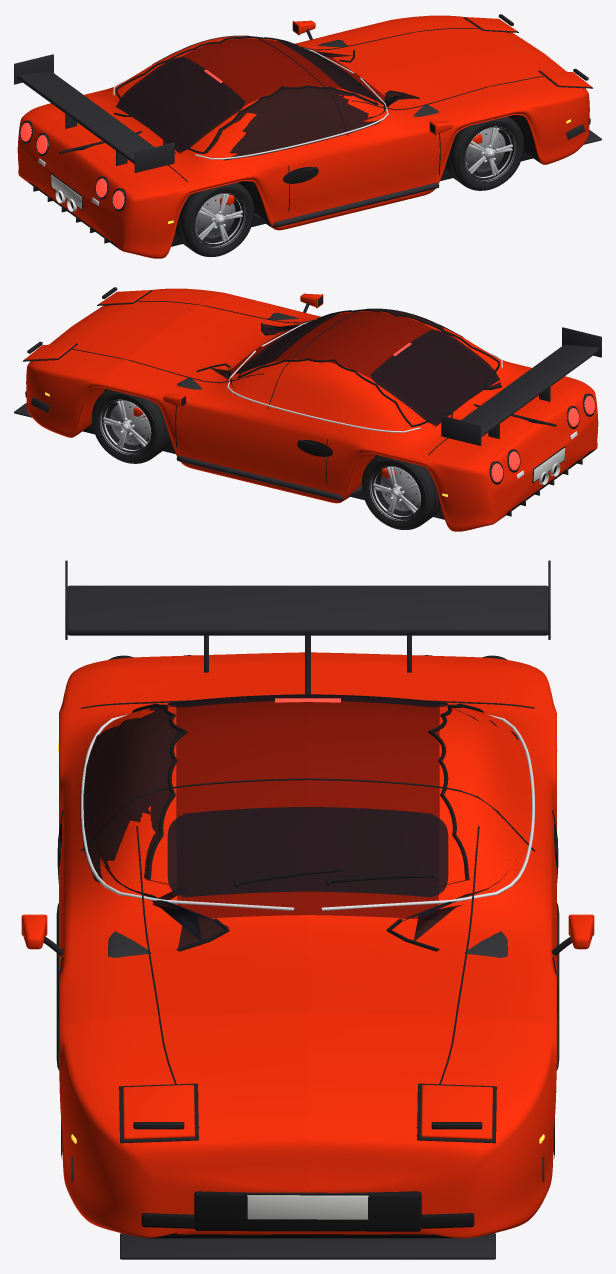
3 renders of one model, top to bottom at view 1: azimuth 30°, elevation 25°; view 2: azimuth 150°, elevation 25°; view 3: azimuth 270°, elevation 25°, orthographic. The views are drawn at different scales.
Parts seen in each view (by area): view 1: body, glass_screen_1, glass_side_R, wing, wheel_RR_tyre, wheel_FR_tyre, side_skirt, glass_screen_0, wing_endplate, wheel_RR_disc, wheel_FR_disc, wing_endplate.001 (+11 smaller); view 2: body, glass_screen_1, wing, wheel_RL_tyre, wheel_FL_tyre, side_skirt.001, glass_screen_0, wing_endplate.001, wheel_RL_disc, wheel_FL_disc, wing_endplate, glass_side_R (+11 smaller); view 3: body, wing, glass_screen_0, glass_side_R, splitter, grille_back, popup_lid, popup_lid.001, plate_front, glass_screen_1, belt_trim.001, dashboard (+6 smaller).
Boxes of the visible parts, x1,y1,x2,y2 form: body: (17, 15, 589, 258); glass_screen_1: (116, 56, 245, 152); glass_side_R: (164, 86, 417, 160); wing: (17, 71, 154, 163); wheel_RR_tyre: (175, 182, 254, 256); wheel_FR_tyre: (445, 116, 524, 190); side_skirt: (253, 182, 439, 227); glass_screen_0: (277, 40, 378, 100); wing_endplate: (134, 142, 174, 172); wheel_RR_disc: (196, 194, 235, 238); wheel_FR_disc: (466, 128, 505, 172); wing_endplate.001: (14, 54, 53, 84); body: (26, 288, 598, 531); glass_screen_1: (370, 329, 499, 425); wing: (461, 344, 598, 436); wheel_RL_tyre: (361, 455, 440, 529); wheel_FL_tyre: (91, 389, 170, 463); side_skirt.001: (176, 455, 362, 500); glass_screen_0: (237, 313, 338, 373); wing_endplate.001: (441, 415, 481, 445); wheel_RL_disc: (380, 467, 419, 511); wheel_FL_disc: (110, 401, 149, 445); wing_endplate: (562, 327, 601, 357); glass_side_R: (262, 308, 500, 388); body: (59, 652, 556, 1238); wing: (67, 585, 548, 635); glass_screen_0: (167, 806, 448, 897); glass_side_R: (80, 706, 228, 949); splitter: (120, 1233, 495, 1259); grille_back: (194, 1191, 421, 1231); popup_lid: (123, 1084, 194, 1139); popup_lid.001: (421, 1084, 492, 1139); plate_front: (247, 1195, 368, 1219); glass_screen_1: (167, 694, 448, 707); belt_trim.001: (321, 714, 534, 910); dashboard: (108, 931, 507, 957).
Size of the model in its own units: 4.49 by 1.11 by 2.25.
